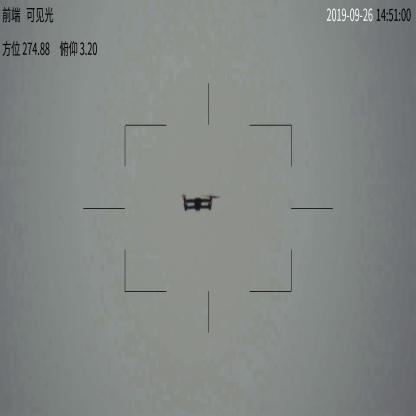uav: (176, 192, 222, 216)
